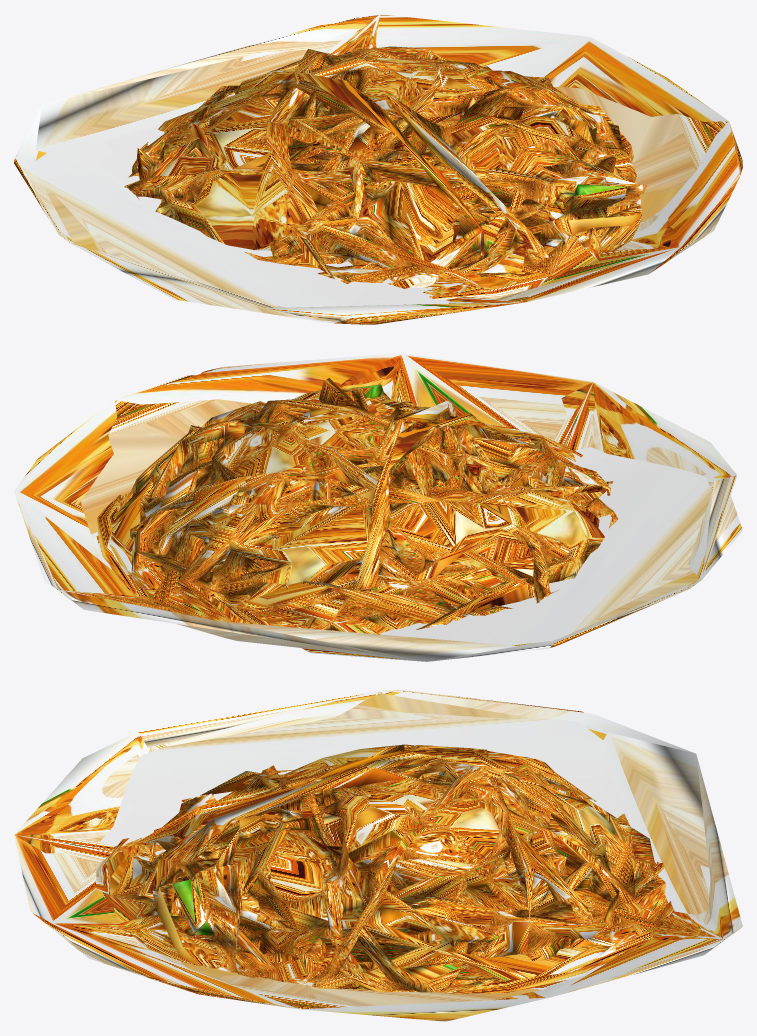
Rendered from plated-chow.glb.
The picture shows the model from 3 angles, top to bottom: view 1: azimuth 30°, elevation 25°; view 2: azimuth 150°, elevation 25°; view 3: azimuth 270°, elevation 25°; orthographic projection. The views are drawn at different scales.
Parts seen in each view (by area): view 1: mesh; view 2: mesh; view 3: mesh.
Part boxes in pixels (<box>): mesh: <box>14,14,742,324</box>; mesh: <box>14,353,742,661</box>; mesh: <box>14,690,742,1021</box>.
Bounding box in the file's own units: 1.98 × 0.389 × 1.9.
1 material, 1 textured.
